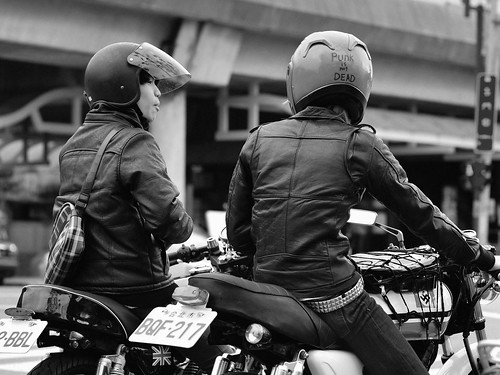helmet: (276, 31, 381, 117), (77, 37, 186, 114)
